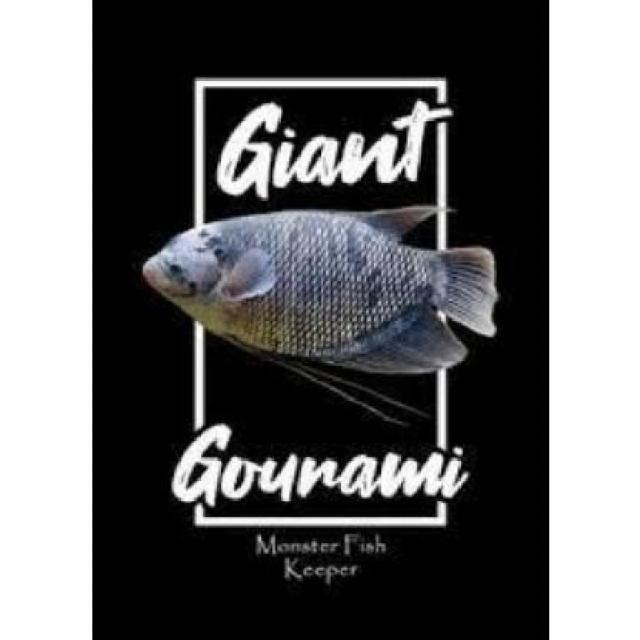gurame: (136, 206, 501, 372)
